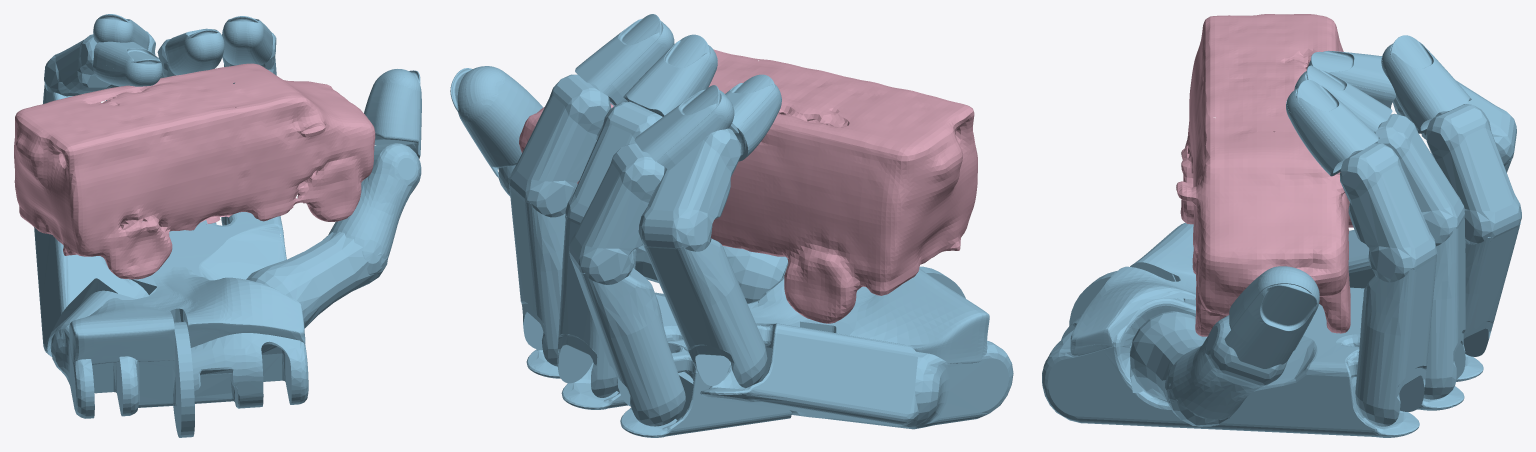
3 renders of one model, left to right at view 1: azimuth 30°, elevation 25°; view 2: azimuth 150°, elevation 25°; view 3: azimuth 270°, elevation 25°, orthographic. The views are drawn at different scales.
Visible parts, largest first — view 1: hand, world; view 2: hand, world; view 3: hand, world.
Boxes of the visible parts, <box> form: hand: <box>34,14,421,437</box>; world: <box>14,63,375,279</box>; hand: <box>450,14,1013,437</box>; world: <box>519,49,977,323</box>; hand: <box>1042,35,1521,437</box>; world: <box>1176,14,1353,336</box>.
Bounding box in the file's own units: 0.1553 × 0.1236 × 0.1361.
